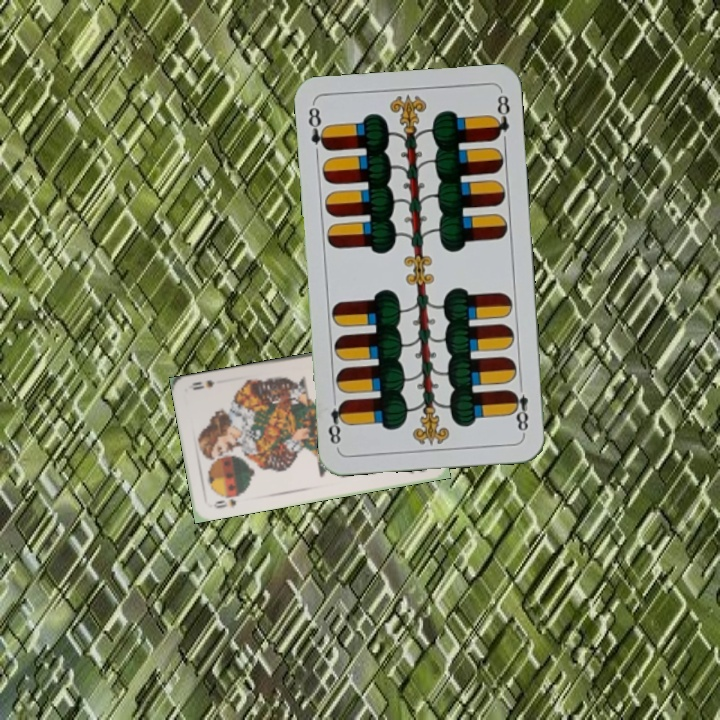E8: (304, 101, 331, 154), (507, 378, 531, 437)
SO: (210, 491, 243, 511)
